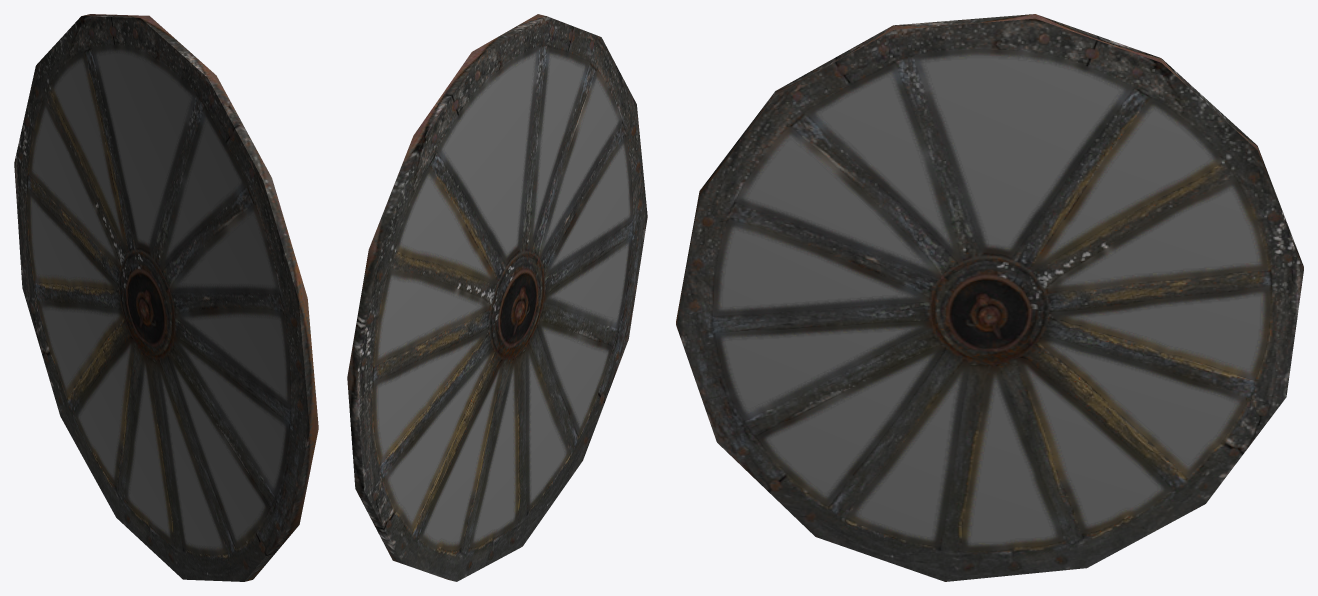
File: Wheel_LOD03.fbx
3 renders of one model, left to right at view 1: azimuth 30°, elevation 25°; view 2: azimuth 150°, elevation 25°; view 3: azimuth 270°, elevation 25°, orthographic. The views are drawn at different scales.
Parts seen in each view (by area): view 1: Mesh Object; view 2: Mesh Object; view 3: Mesh Object.
Boxes of the visible parts, <box> form: Mesh Object: <box>14,14,318,581</box>; Mesh Object: <box>347,14,647,581</box>; Mesh Object: <box>676,14,1303,581</box>.
Bounding box in the file's own units: 0.0899 × 0.9818 × 0.9915.
